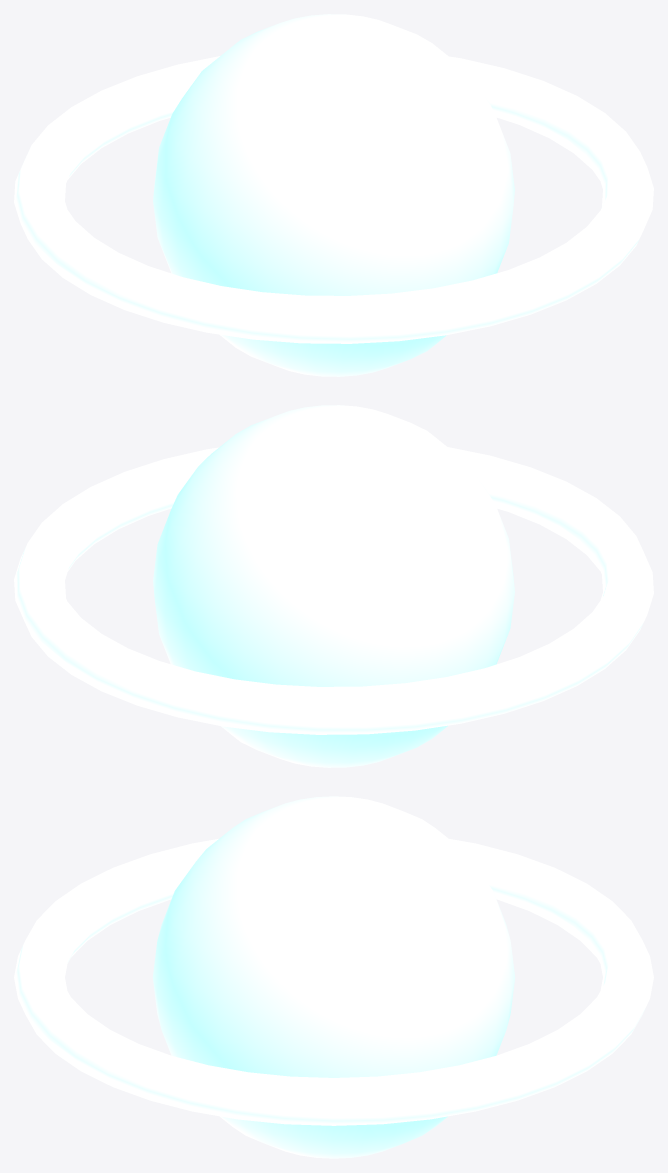
File: kb_marker_frozen.glb
The picture shows the model from 3 angles, top to bottom: view 1: azimuth 30°, elevation 25°; view 2: azimuth 150°, elevation 25°; view 3: azimuth 270°, elevation 25°; orthographic projection.
Parts seen in each view (by area): view 1: skin; view 2: skin; view 3: skin.
Part boxes in pixels (<box>): skin: <box>14,14,653,376</box>; skin: <box>14,405,653,767</box>; skin: <box>14,796,653,1158</box>.
Size of the model in its own units: 1.13 by 0.64 by 1.13.
